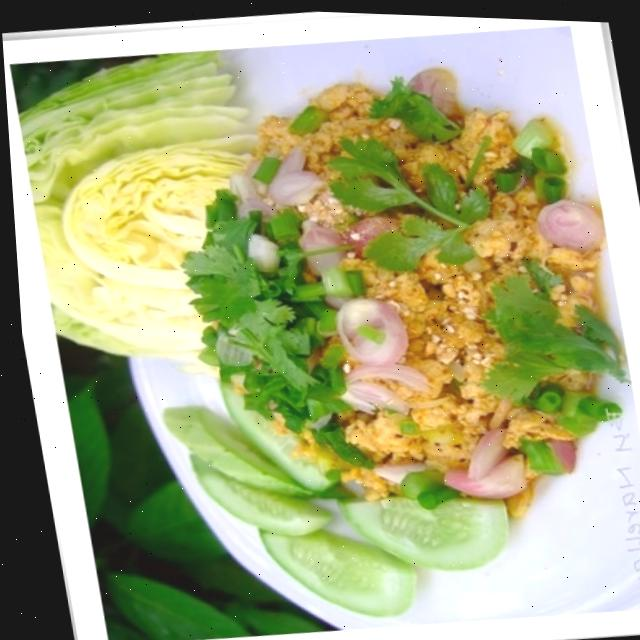鸡肉料理 含炸鸡: (45, 15, 640, 640)
